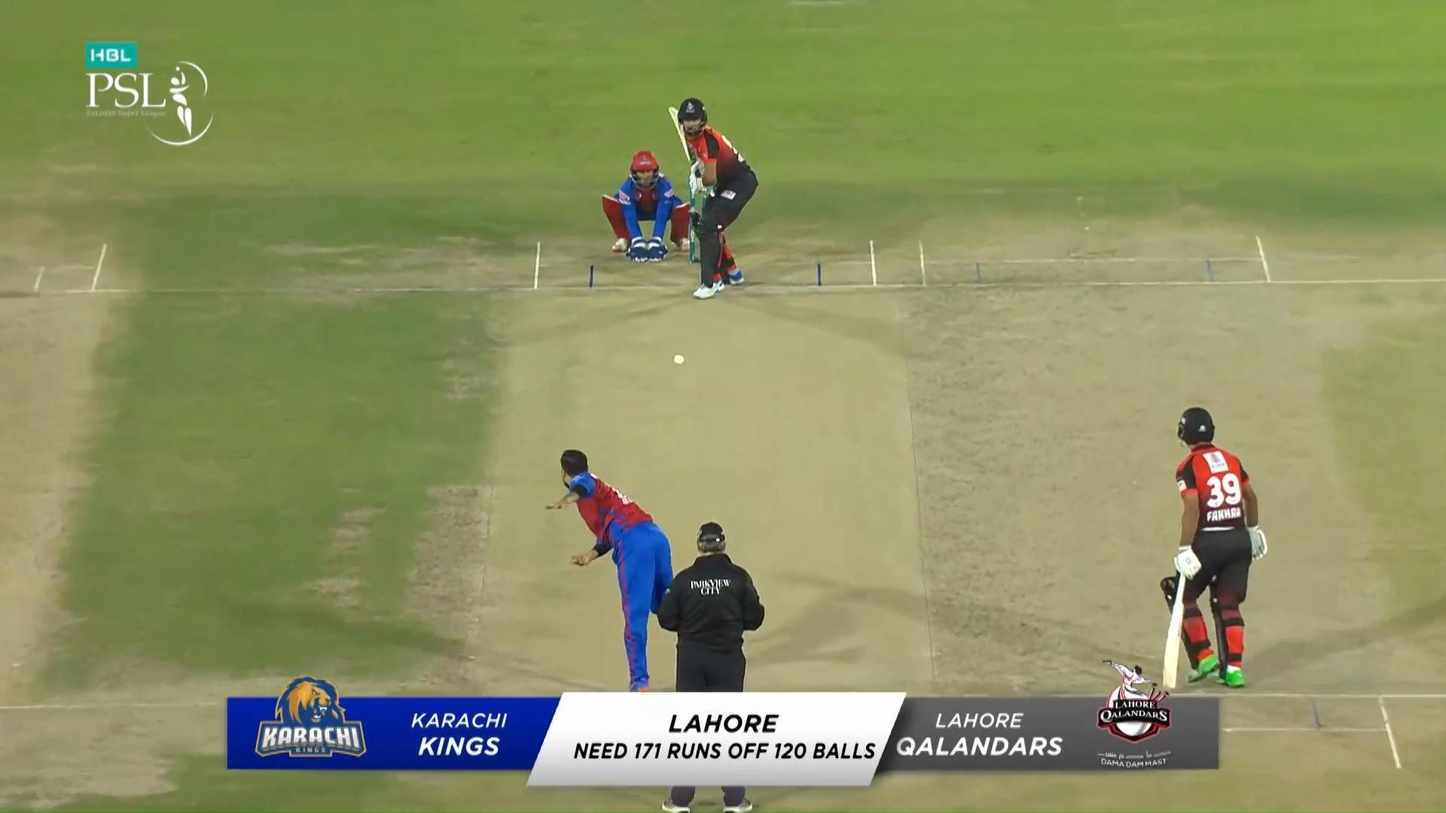BM 1: (667, 96, 759, 301)
BO: (544, 447, 702, 706)
